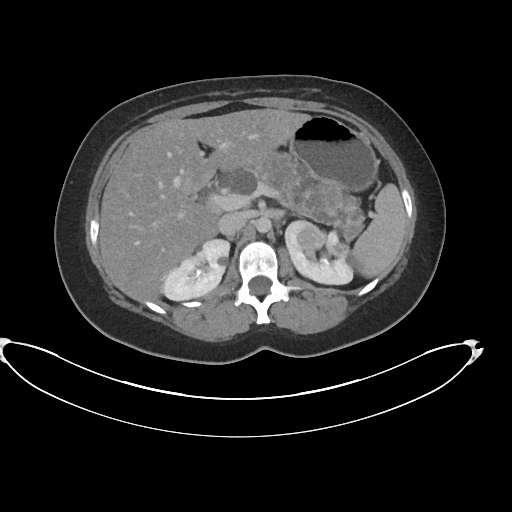Lesion: (295, 220, 328, 252)
